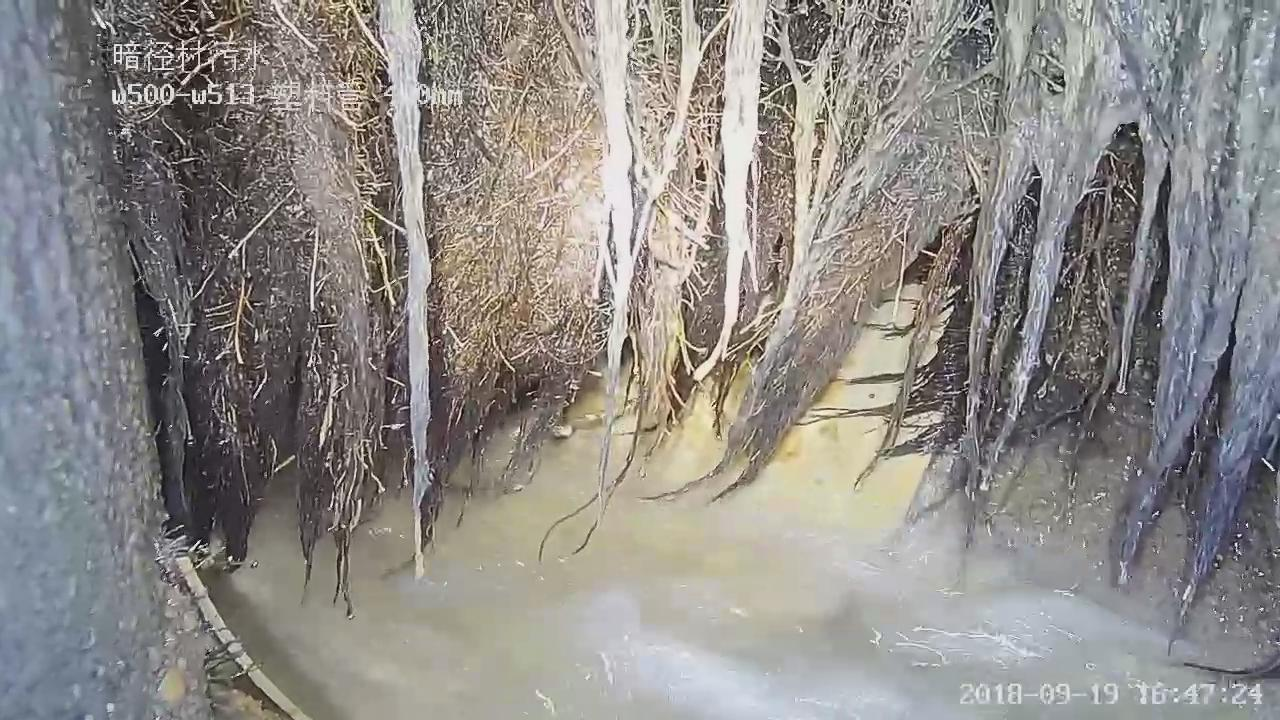SG: (100, 0, 1279, 674), (101, 0, 1279, 627)
